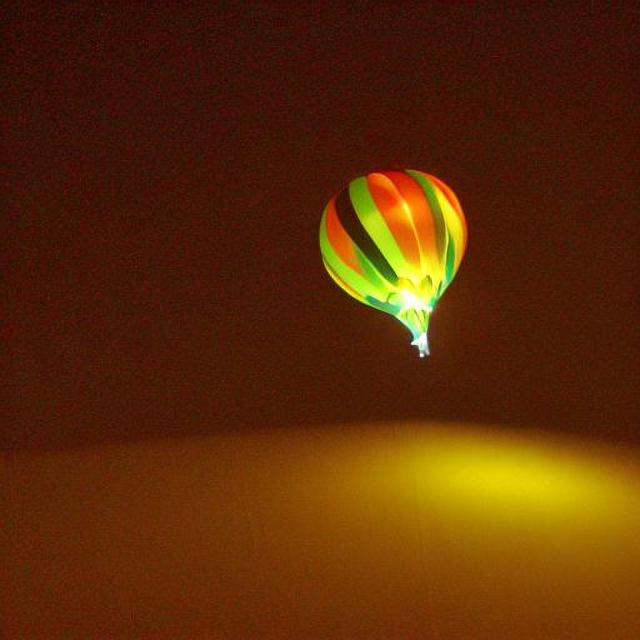balloon: (87, 403, 635, 631)
floating object: (316, 166, 466, 353)
